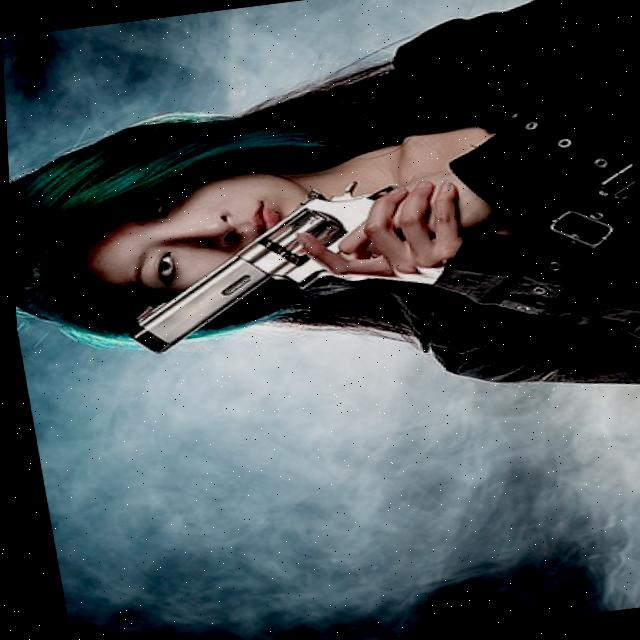pistol: (100, 176, 422, 358)
